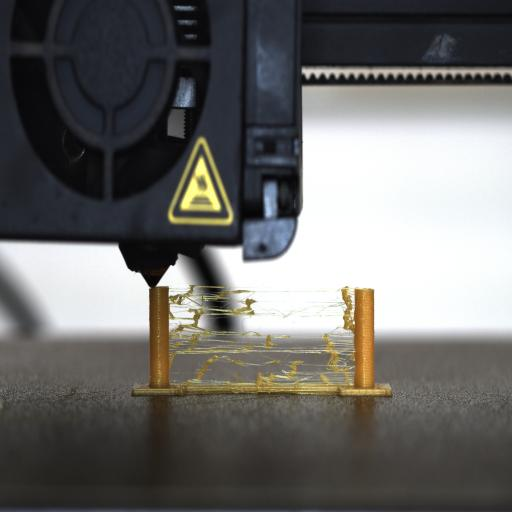stringing: (168, 284, 356, 387)
